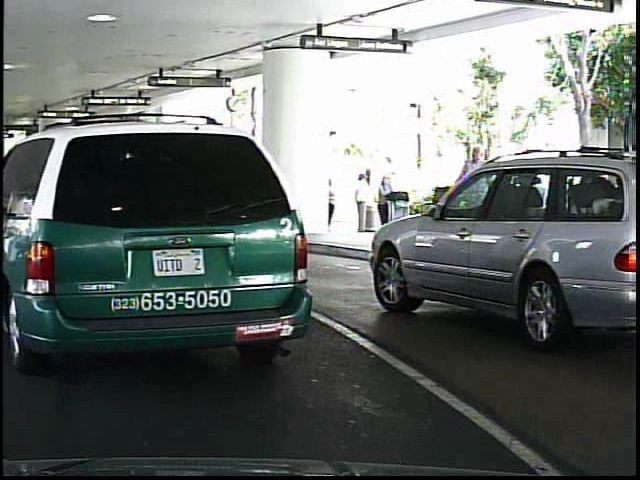person: (451, 139, 496, 270), (370, 170, 400, 240)
